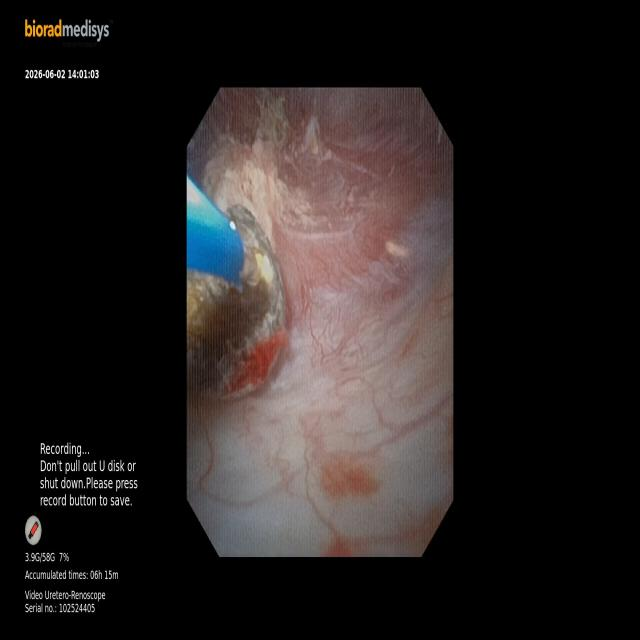laser-fibre: (241, 237, 262, 286)
laser_dot: (256, 253, 273, 283)
stone-new: (186, 205, 286, 397)
